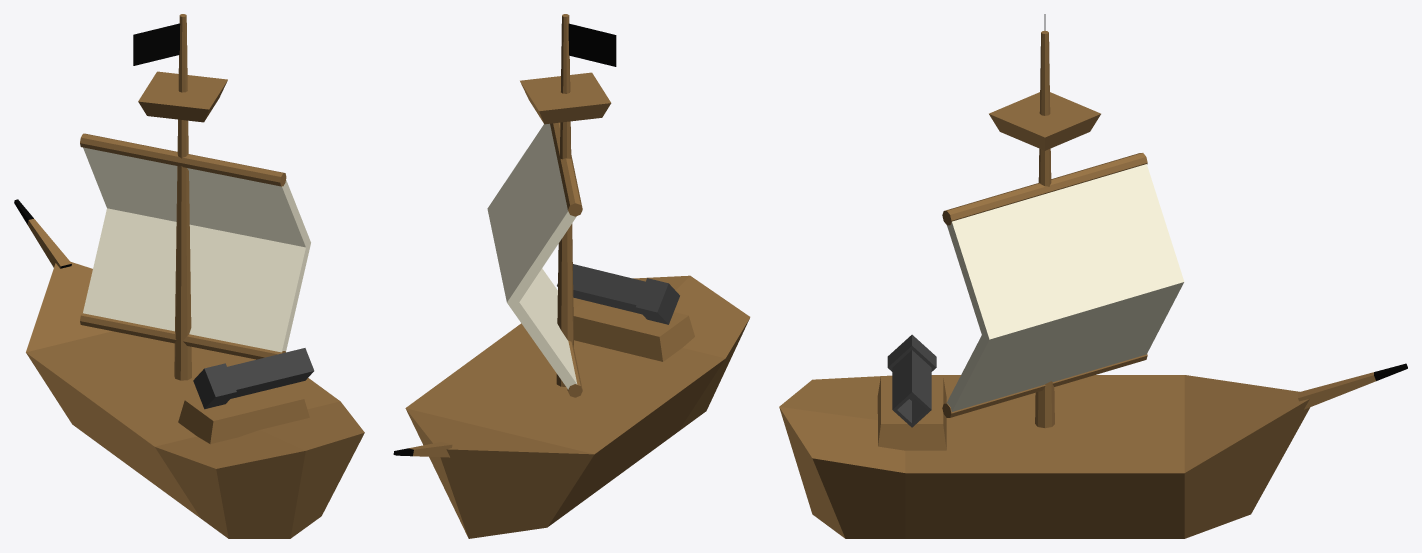
The model's file is boat.glb.
3 renders of one model, left to right at view 1: azimuth 30°, elevation 25°; view 2: azimuth 150°, elevation 25°; view 3: azimuth 270°, elevation 25°, orthographic. The views are drawn at different scales.
Visible parts, largest first — view 1: Pirate Ship; view 2: Pirate Ship; view 3: Pirate Ship.
Part boxes in pixels (x1,y1,x2,y2): Pirate Ship: [14, 14, 364, 538]; Pirate Ship: [393, 14, 750, 538]; Pirate Ship: [779, 14, 1407, 538].
Size of what is drawn, in the model's own units: 0.7355 by 1.6 by 1.89.
1 material, 1 textured.
